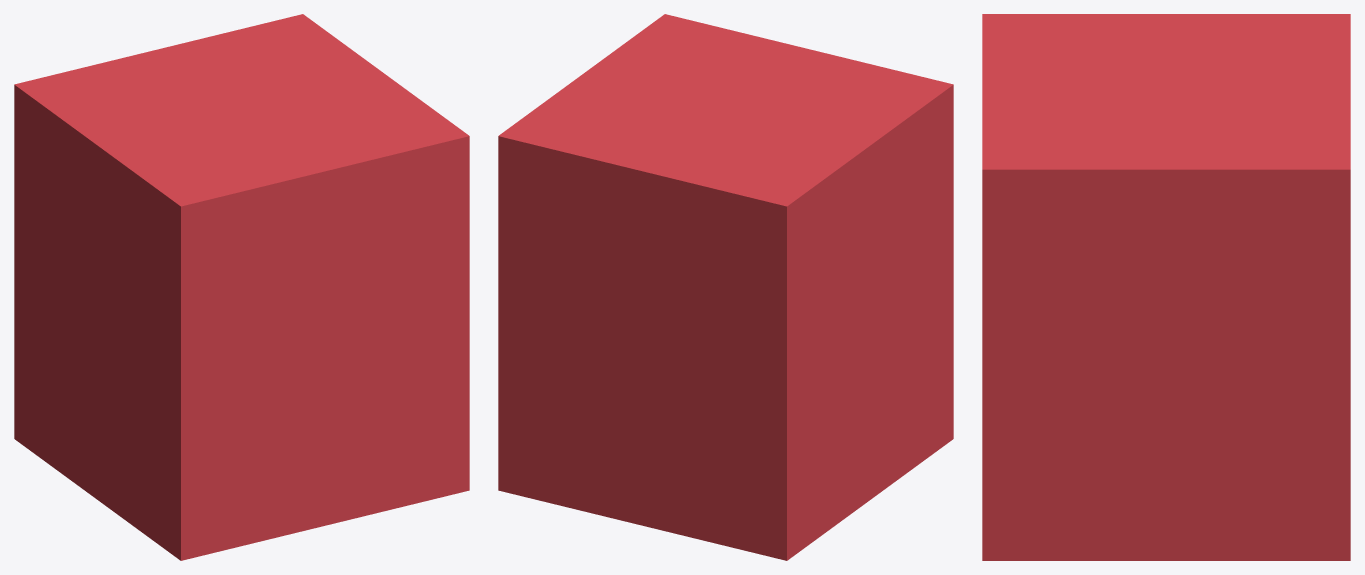
File: noel_manga_sup.glb
3 views of the same model, side by side, from view 1: azimuth 30°, elevation 25°; view 2: azimuth 150°, elevation 25°; view 3: azimuth 270°, elevation 25° (orthographic). The views are drawn at different scales.
Parts seen in each view (by area): view 1: noel_manga_sup; view 2: noel_manga_sup; view 3: noel_manga_sup.
Part boxes in pixels (left/top/right/bottom): noel_manga_sup: left=14, top=14, right=469, bottom=560; noel_manga_sup: left=498, top=14, right=953, bottom=560; noel_manga_sup: left=982, top=14, right=1350, bottom=560.
Size of the model in its own units: 0.29 by 0.34 by 0.29.
